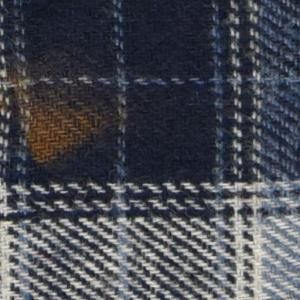Oil Stain: (1, 53, 119, 171)
